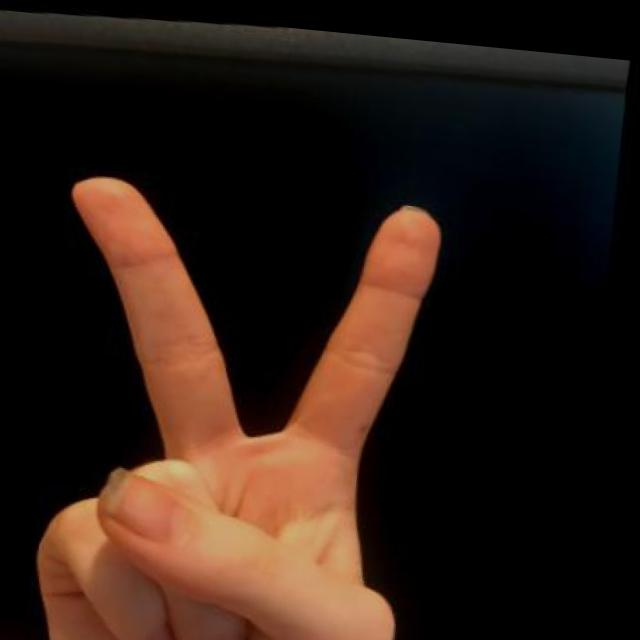V: (19, 154, 474, 640)
